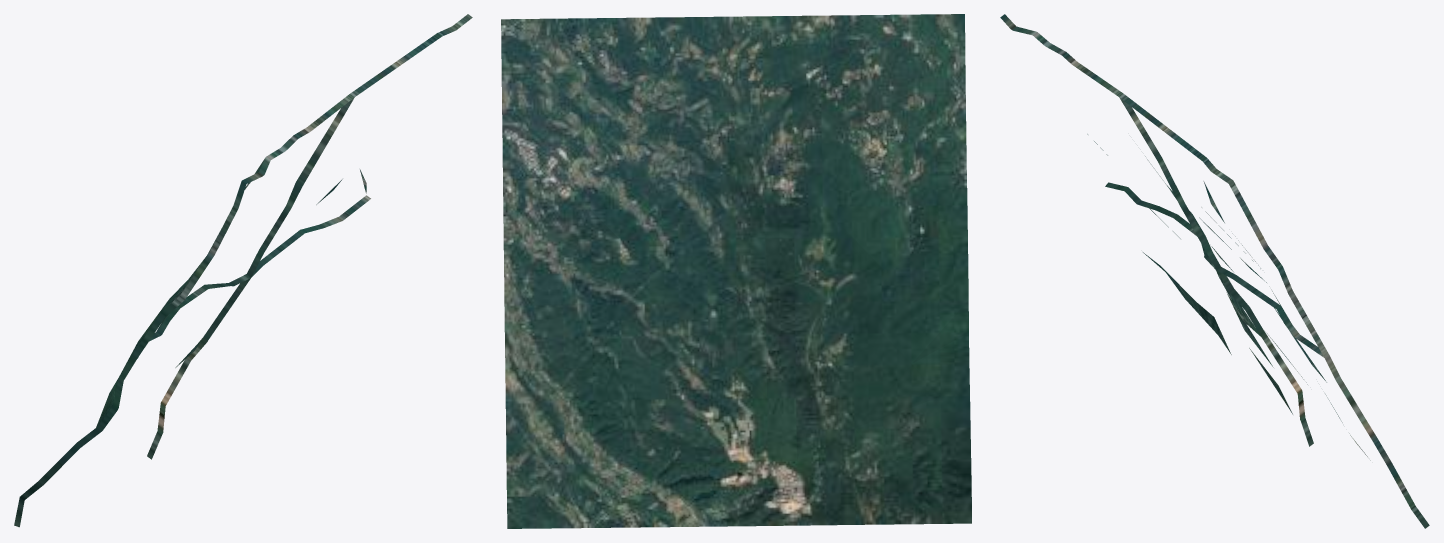
The picture shows the model from 3 angles, left to right: view 1: azimuth 30°, elevation 25°; view 2: azimuth 150°, elevation 25°; view 3: azimuth 270°, elevation 25°; orthographic projection. The views are drawn at different scales.
Bounding box in the file's own units: 5150 × 4402 × 4245.
Materials: 1 (1 with a texture image).
